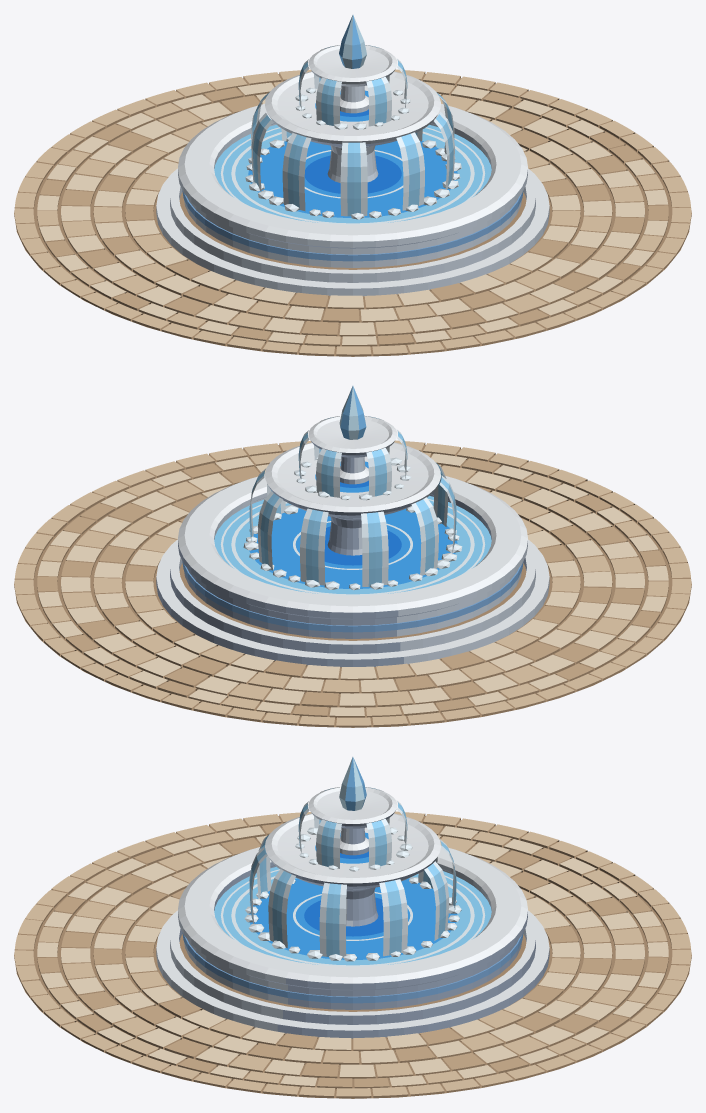
The model's file is PlazaFountain.glb.
The picture shows the model from 3 angles, top to bottom: view 1: azimuth 30°, elevation 25°; view 2: azimuth 150°, elevation 25°; view 3: azimuth 270°, elevation 25°; orthographic projection.
Visible parts, largest first — view 1: Fountain__Pave_Mid, Fountain__Pave_Light, Fountain__Stone_Top, Fountain__Pave_Grout, Fountain__Stone_Side, Fountain__Pave_Dark, Fountain__Fall_White, Fountain__Water_Light, Fountain__Fall_Light, Fountain__Water_Mid, Fountain__Water_White, Fountain__Stone_Trim (+3 smaller); view 2: Fountain__Pave_Mid, Fountain__Pave_Light, Fountain__Stone_Top, Fountain__Pave_Grout, Fountain__Pave_Dark, Fountain__Stone_Shadow, Fountain__Stone_Side, Fountain__Fall_White, Fountain__Water_Mid, Fountain__Fall_Light, Fountain__Water_Light, Fountain__Water_White (+3 smaller); view 3: Fountain__Pave_Mid, Fountain__Pave_Light, Fountain__Stone_Top, Fountain__Pave_Grout, Fountain__Pave_Dark, Fountain__Stone_Shadow, Fountain__Fall_White, Fountain__Fall_Light, Fountain__Water_Mid, Fountain__Water_Light, Fountain__Stone_Side, Fountain__Water_White (+3 smaller).
Part boxes in pixels (left/top/right/bottom): Fountain__Pave_Mid: left=14, top=69, right=691, bottom=354; Fountain__Pave_Light: left=37, top=82, right=668, bottom=344; Fountain__Stone_Top: left=156, top=45, right=549, bottom=288; Fountain__Pave_Grout: left=14, top=72, right=691, bottom=356; Fountain__Stone_Side: left=156, top=69, right=549, bottom=296; Fountain__Pave_Dark: left=40, top=87, right=668, bottom=344; Fountain__Fall_White: left=251, top=45, right=454, bottom=216; Fountain__Water_Light: left=214, top=124, right=491, bottom=223; Fountain__Fall_Light: left=252, top=45, right=453, bottom=216; Fountain__Water_Mid: left=248, top=90, right=457, bottom=217; Fountain__Water_White: left=220, top=87, right=485, bottom=224; Fountain__Stone_Trim: left=182, top=190, right=523, bottom=261; Fountain__Pave_Mid: left=14, top=440, right=691, bottom=725; Fountain__Pave_Light: left=37, top=453, right=668, bottom=715; Fountain__Stone_Top: left=156, top=416, right=549, bottom=659; Fountain__Pave_Grout: left=14, top=443, right=691, bottom=727; Fountain__Pave_Dark: left=37, top=458, right=665, bottom=715; Fountain__Stone_Shadow: left=156, top=440, right=526, bottom=667; Fountain__Stone_Side: left=179, top=441, right=549, bottom=664; Fountain__Fall_White: left=249, top=416, right=456, bottom=586; Fountain__Water_Mid: left=249, top=461, right=457, bottom=588; Fountain__Fall_Light: left=249, top=416, right=456, bottom=586; Fountain__Water_Light: left=214, top=495, right=491, bottom=594; Fountain__Water_White: left=220, top=457, right=485, bottom=595; Fountain__Pave_Mid: left=14, top=811, right=691, bottom=1096; Fountain__Pave_Light: left=37, top=826, right=668, bottom=1085; Fountain__Stone_Top: left=156, top=787, right=549, bottom=1030; Fountain__Pave_Grout: left=14, top=814, right=691, bottom=1098; Fountain__Pave_Dark: left=37, top=823, right=668, bottom=1086; Fountain__Stone_Shadow: left=179, top=810, right=549, bottom=1038; Fountain__Fall_White: left=249, top=787, right=456, bottom=957; Fountain__Fall_Light: left=249, top=787, right=456, bottom=956; Fountain__Water_Mid: left=248, top=832, right=457, bottom=959; Fountain__Water_Light: left=214, top=866, right=491, bottom=965; Fountain__Stone_Side: left=156, top=810, right=526, bottom=1031; Fountain__Water_White: left=220, top=827, right=485, bottom=966.
Bounding box in the file's own units: 60 × 19.6 × 60.
